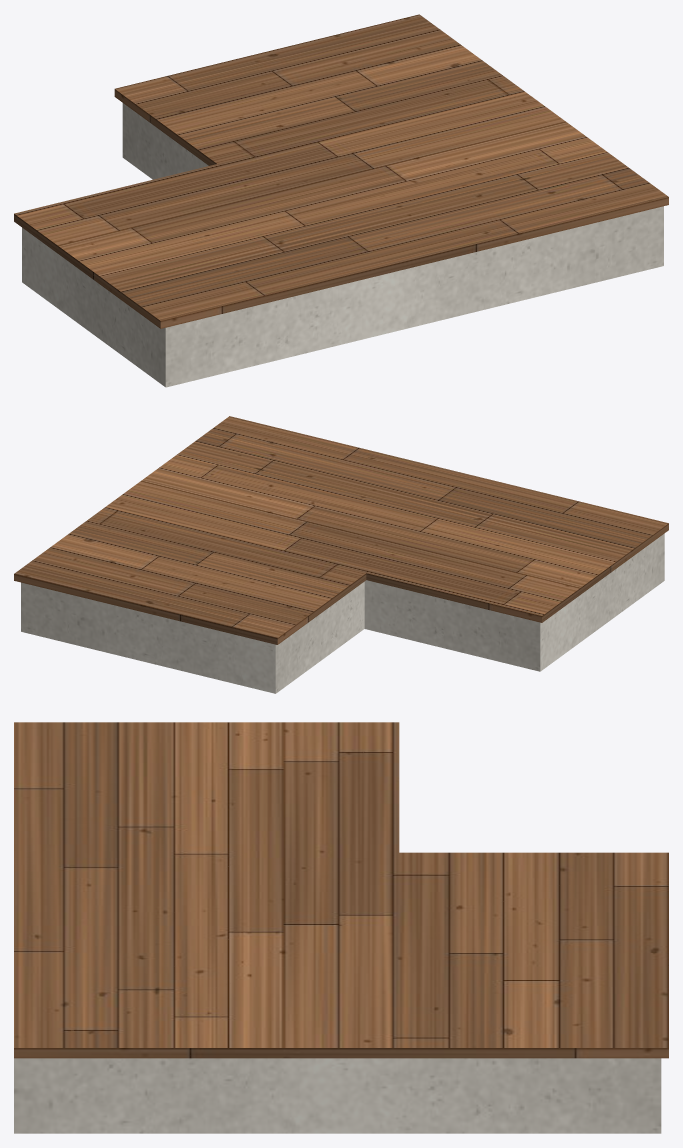
The model's file is floor_floor_u_e0001_h2.glb.
3 renders of one model, top to bottom at view 1: azimuth 30°, elevation 25°; view 2: azimuth 150°, elevation 25°; view 3: azimuth 270°, elevation 25°, orthographic. The views are drawn at different scales.
Parts seen in each view (by area): view 1: floor_floor_u_e0001_h2_floor, floor_floor_u_e0001_h2_plaster; view 2: floor_floor_u_e0001_h2_floor, floor_floor_u_e0001_h2_plaster; view 3: floor_floor_u_e0001_h2_floor, floor_floor_u_e0001_h2_plaster.
Part boxes in pixels (<box>): floor_floor_u_e0001_h2_floor: <box>14,14,668,328</box>; floor_floor_u_e0001_h2_plaster: <box>22,103,663,387</box>; floor_floor_u_e0001_h2_floor: <box>14,416,668,644</box>; floor_floor_u_e0001_h2_plaster: <box>21,533,664,693</box>; floor_floor_u_e0001_h2_floor: <box>14,722,668,1058</box>; floor_floor_u_e0001_h2_plaster: <box>14,1058,661,1133</box>.
Bounding box in the file's own units: 2 × 0.255 × 1.7.
2 materials, 2 textured.
